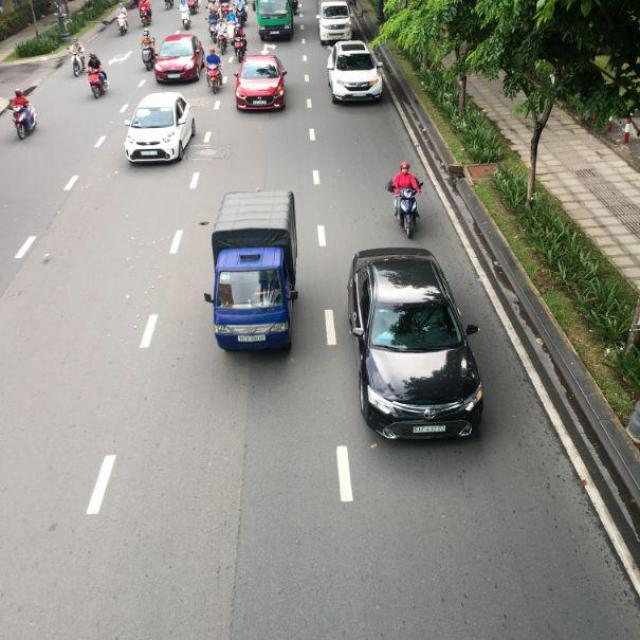car: (349, 248, 487, 444), (124, 93, 196, 165), (328, 41, 385, 104), (235, 53, 291, 113), (152, 30, 206, 86), (318, 0, 353, 45)
motorcycle: (392, 189, 419, 238), (88, 68, 108, 99), (117, 9, 128, 35)
truck: (210, 190, 299, 354), (252, 0, 297, 41)
